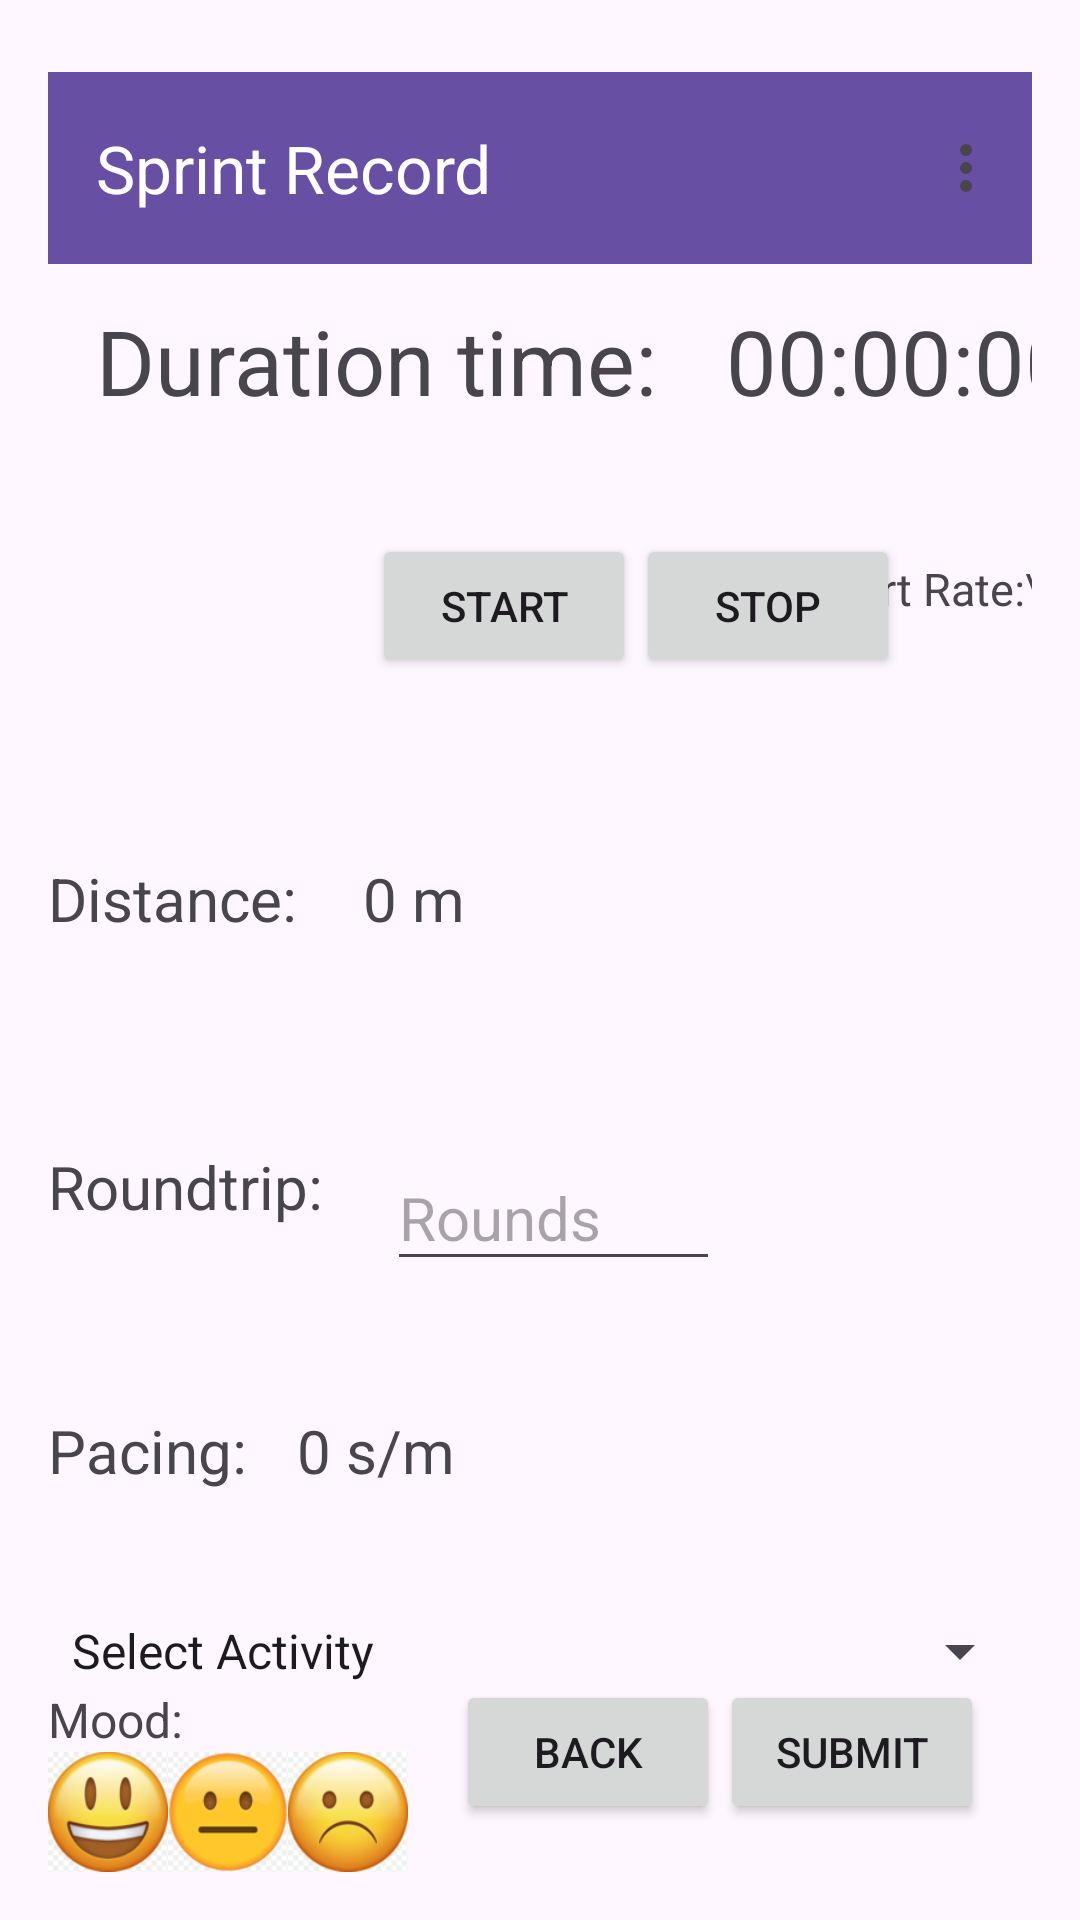

Icons on this 1080 x 1920 Android screen, each with its box as detection(x1, y1, x2, y2):
bad: detection(288, 1752, 408, 1872)
happy: detection(48, 1752, 168, 1872)
neutral: detection(169, 1753, 287, 1871)
